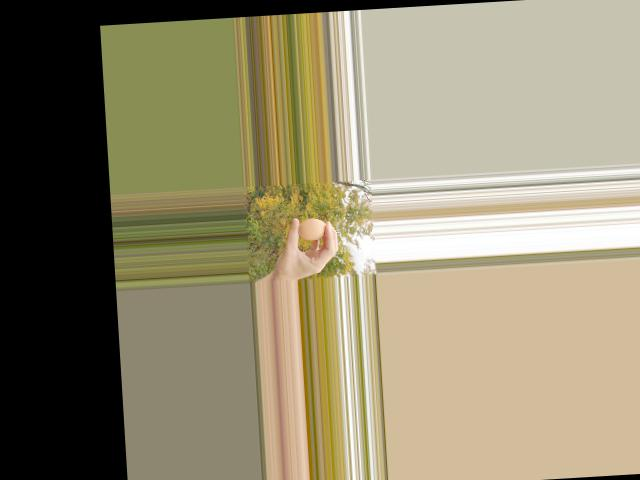egg: (297, 217, 327, 240)
